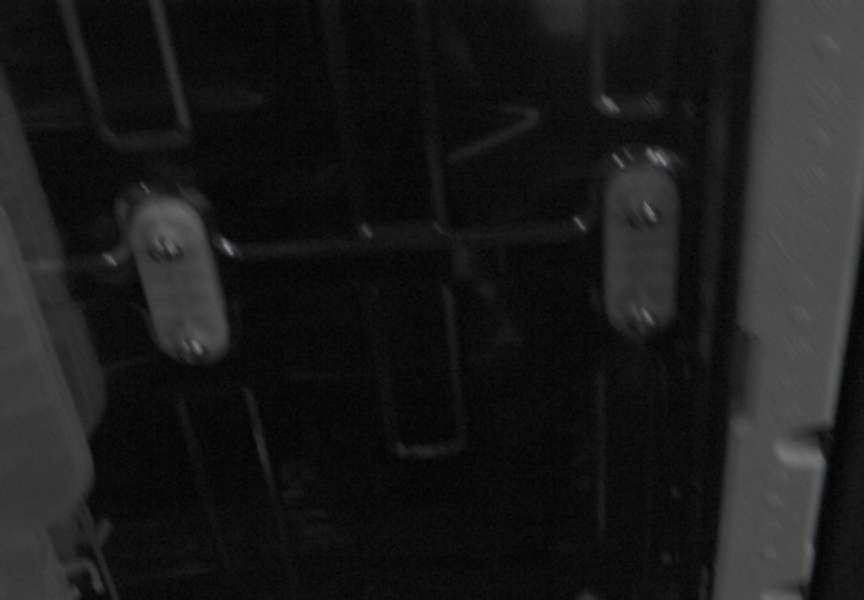screw: (626, 198, 662, 230), (625, 303, 658, 337), (147, 235, 183, 263), (177, 337, 208, 365)
